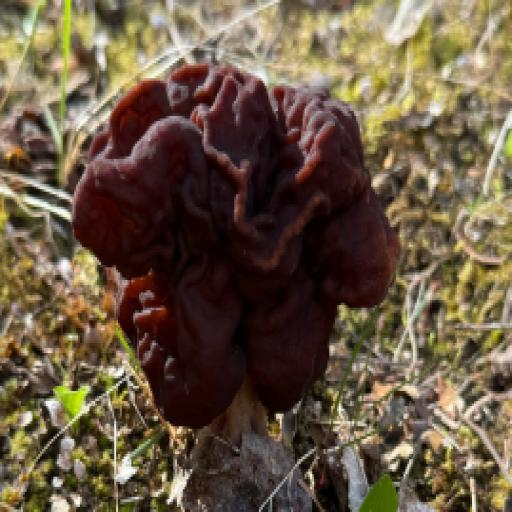mushroom: (72, 45, 406, 434)
